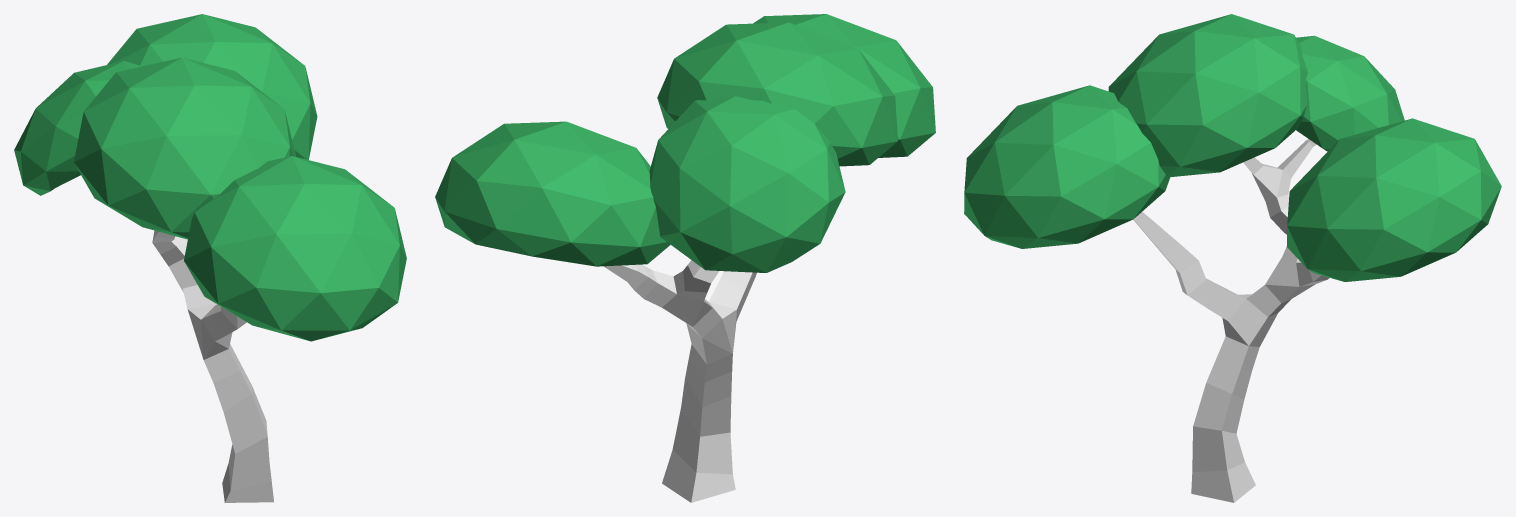
Rendered from tree_low_0001_export.glb.
3 views of the same model, side by side, from view 1: azimuth 30°, elevation 25°; view 2: azimuth 150°, elevation 25°; view 3: azimuth 270°, elevation 25° (orthographic). The views are drawn at different scales.
Parts seen in each view (by area): view 1: tree; view 2: tree; view 3: tree.
Boxes of the visible parts, <box> form: tree: <box>14,14,406,502</box>; tree: <box>435,14,935,502</box>; tree: <box>964,14,1501,502</box>.
Size of the model in its own units: 68.17 by 90.77 by 103.
2 materials, 1 textured.
